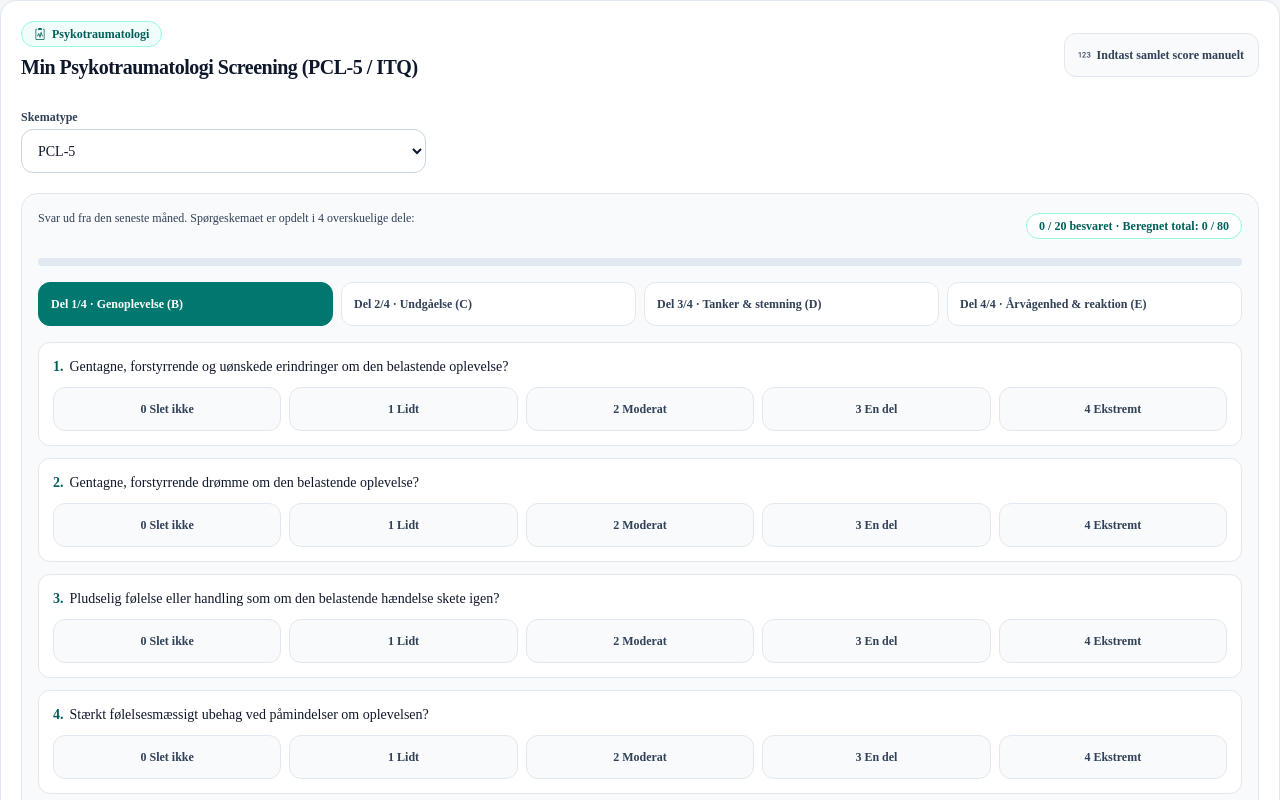
it: PsychotraumatologyFeature Vertical Slice › renders self-service screening view for CLIENT role using own UUID and hiding delete buttons
Click the button with test id "toggle-manual-score-mode" at (1161, 55), box [1064,33,1259,77]
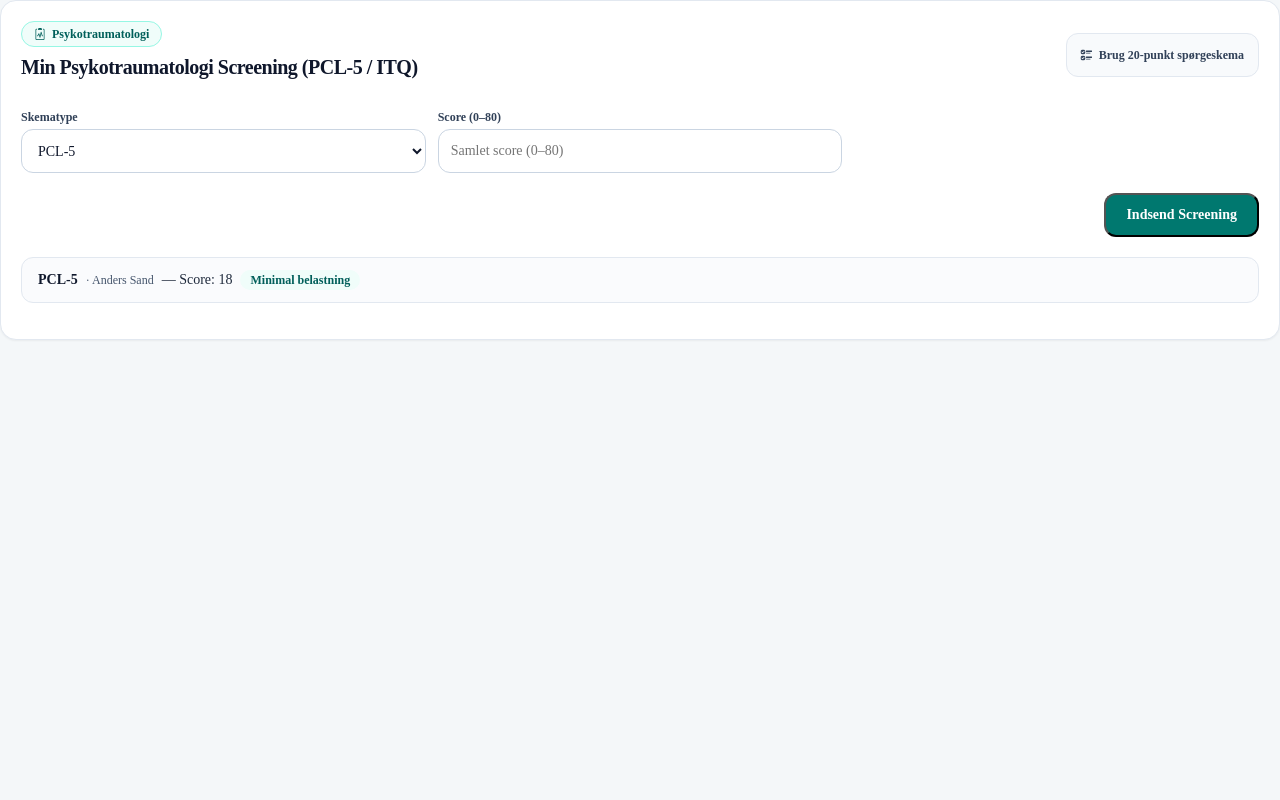
Type "35" into the number field with test id "input-score" at (640, 151), box [438,129,842,173]
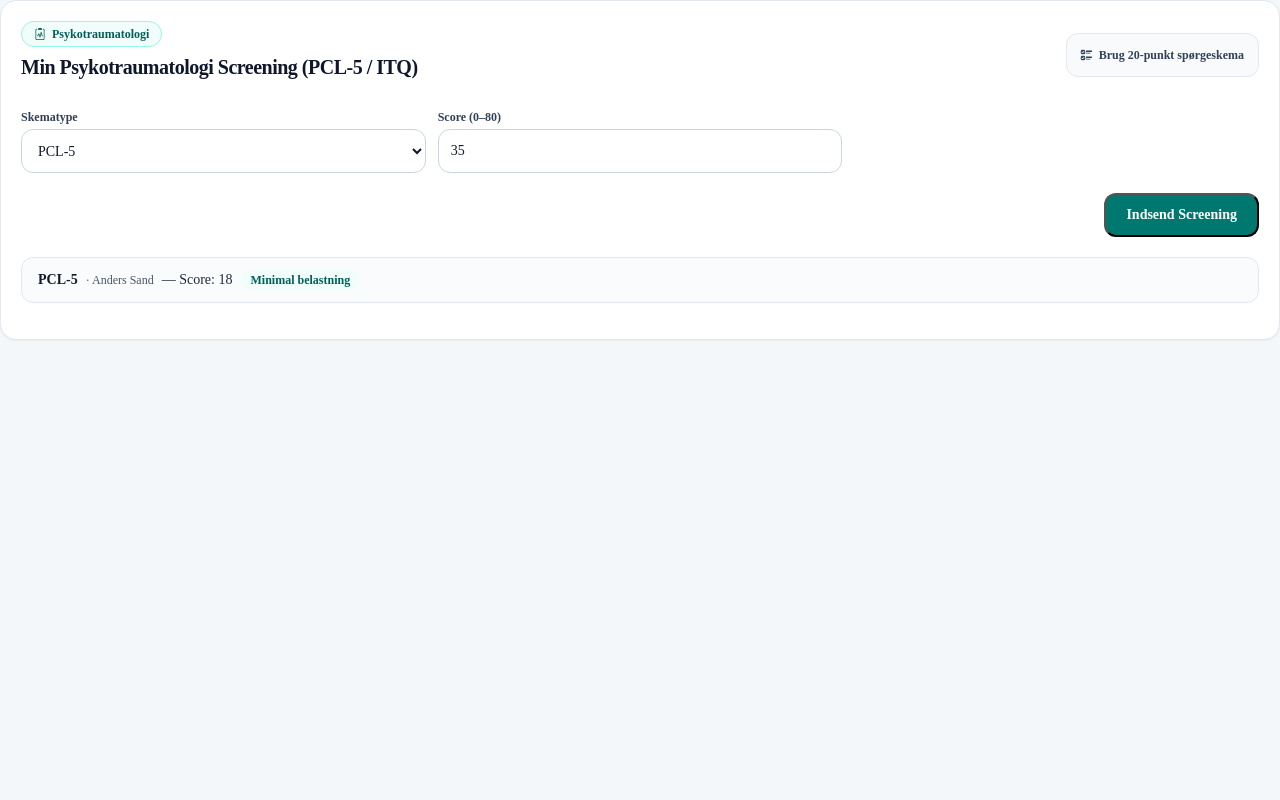
Click the button with test id "submit-psychotraumatology" at (1182, 215), box [1104,193,1259,237]
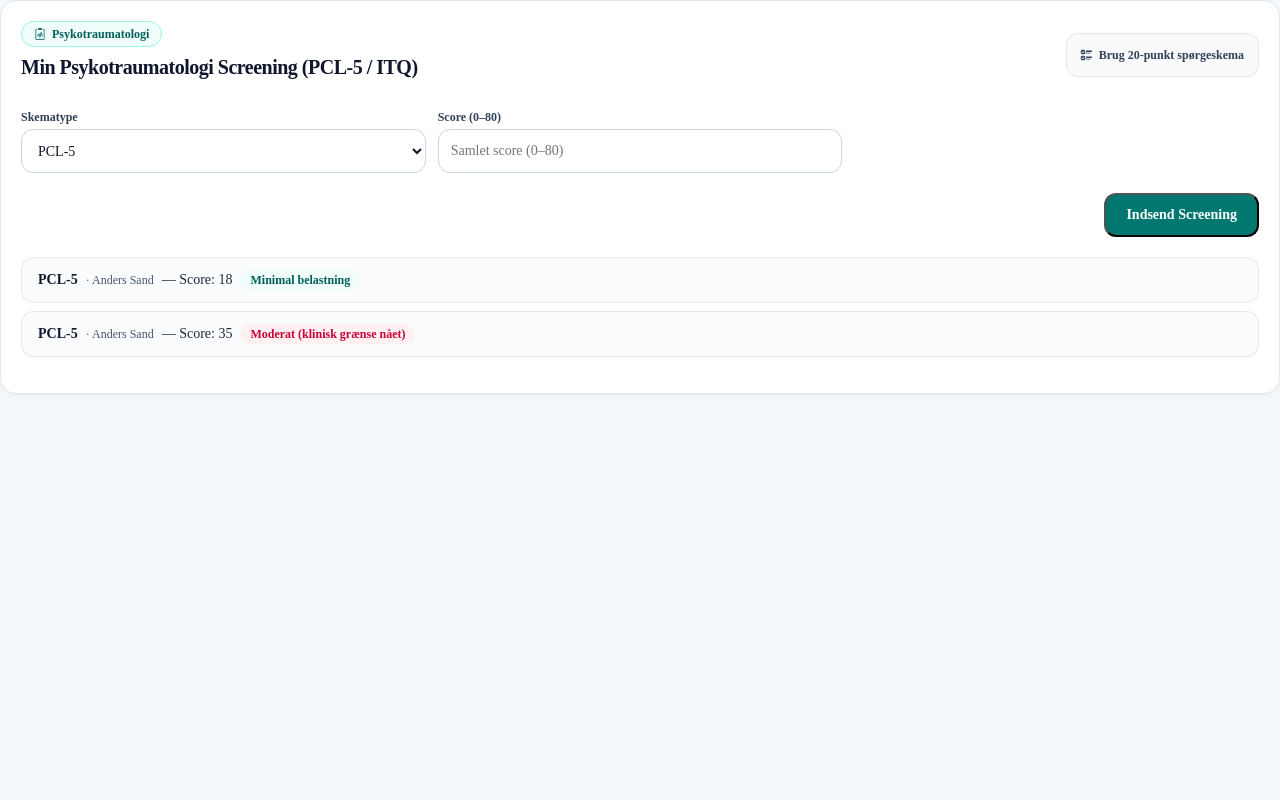
Result: the text "— Score: 35" is shown at [162,324,232,344]
